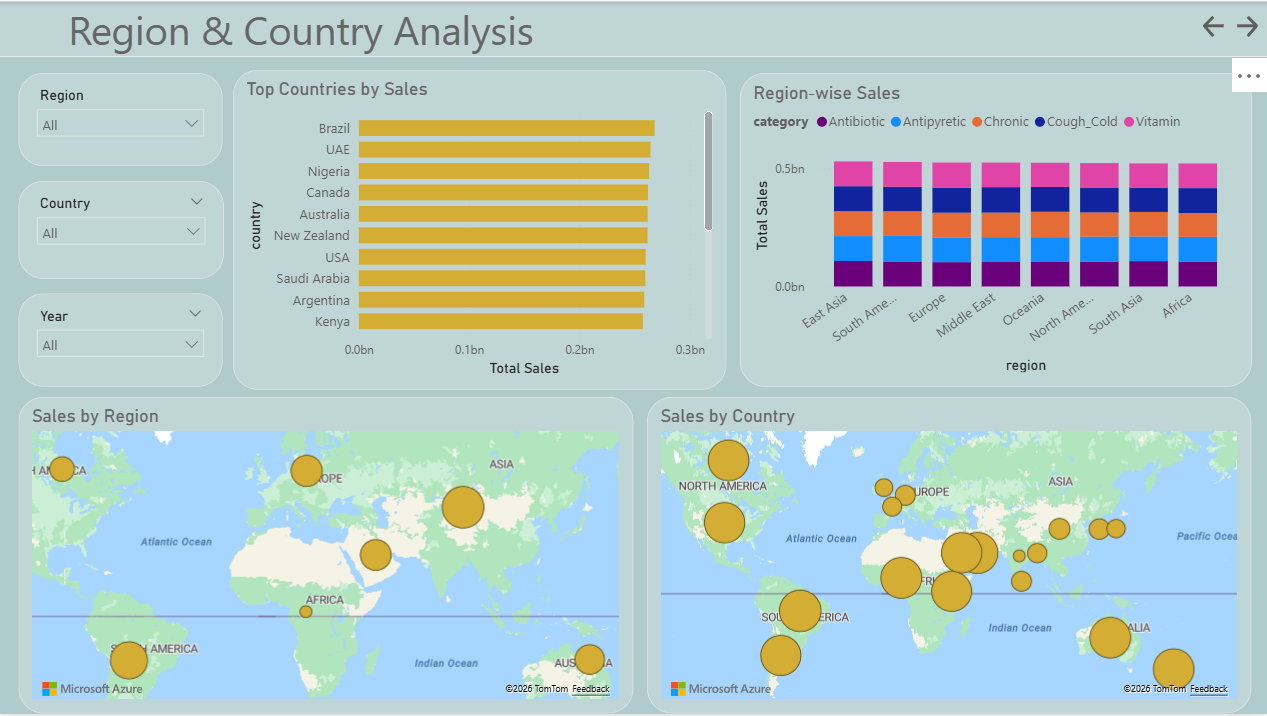

The dashboard page shown, as its layout file describes it:
{"tool":"powerbi","page":{"name":"REGION & COUNTRY ANALYSIS","canvas":[1280,720],"ordinal":3},"visuals":[{"type":"textbox","box":[0,0,1279.5,51.5],"z":0},{"type":"barChart","title":"Top Countries by Sales","fields":{"Category":["global_pharmacy_sales_2020_2025.country"],"Y":["global_pharmacy_sales_2020_2025.Total Sales"]},"box":[236.2,69.7,498.2,322.5],"z":2000},{"type":"columnChart","title":"Region‑wise Sales","fields":{"Y":["global_pharmacy_sales_2020_2025.Total Sales"],"Category":["global_pharmacy_sales_2020_2025.region"],"Series":["global_pharmacy_sales_2020_2025.category"]},"box":[748,72.7,516.3,316.5],"z":3000},{"type":"slicer","fields":{"Values":["global_pharmacy_sales_2020_2025.region"]},"box":[0,72.7,225.6,178.7],"z":4000},{"type":"slicer","fields":{"Values":["global_pharmacy_sales_2020_2025.country"]},"box":[1.5,263.5,225.6,271],"z":5000},{"type":"slicer","fields":{"Values":["global_pharmacy_sales_2020_2025.year"]},"box":[4.5,547,225.8,172.7],"z":6000},{"type":"azureMap","title":"Sales by Country","fields":{"Category":["global_pharmacy_sales_2020_2025.region"],"Series":["global_pharmacy_sales_2020_2025.country"]},"box":[417.9,399.8,589,319.5],"z":7000}]}

Visuals, with their boxes in screenshot pixels (x1, y1, x2, y2), scaled from the page's 1280x720 canvas onto the 1267x716 screenshot:
textbox: (0,0,1266,51)
"Top Countries by Sales" barChart: (234,69,727,390)
"Region‑wise Sales" columnChart: (740,72,1251,387)
slicer - global_pharmacy_sales_2020_2025.region: (0,72,223,250)
slicer - global_pharmacy_sales_2020_2025.country: (1,262,225,532)
slicer - global_pharmacy_sales_2020_2025.year: (4,544,228,715)
"Sales by Country" azureMap: (414,398,997,715)
